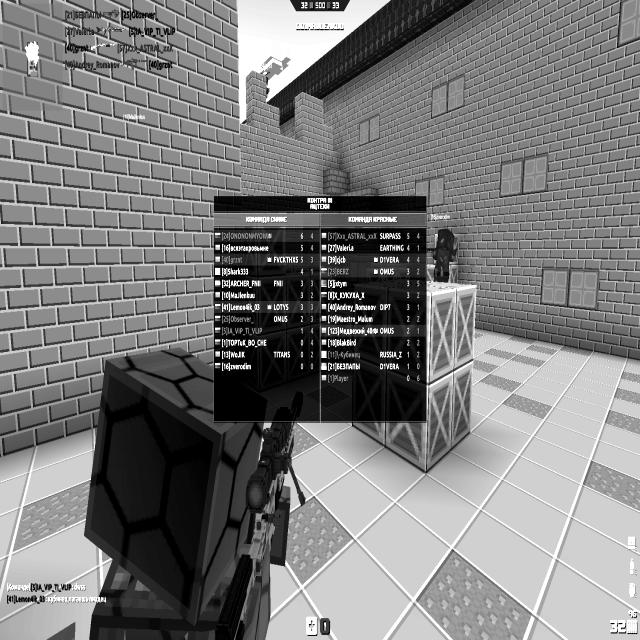Head: (83, 347, 268, 626), (436, 228, 455, 251), (266, 77, 268, 87)
Player: (432, 228, 455, 282), (266, 76, 270, 98)
